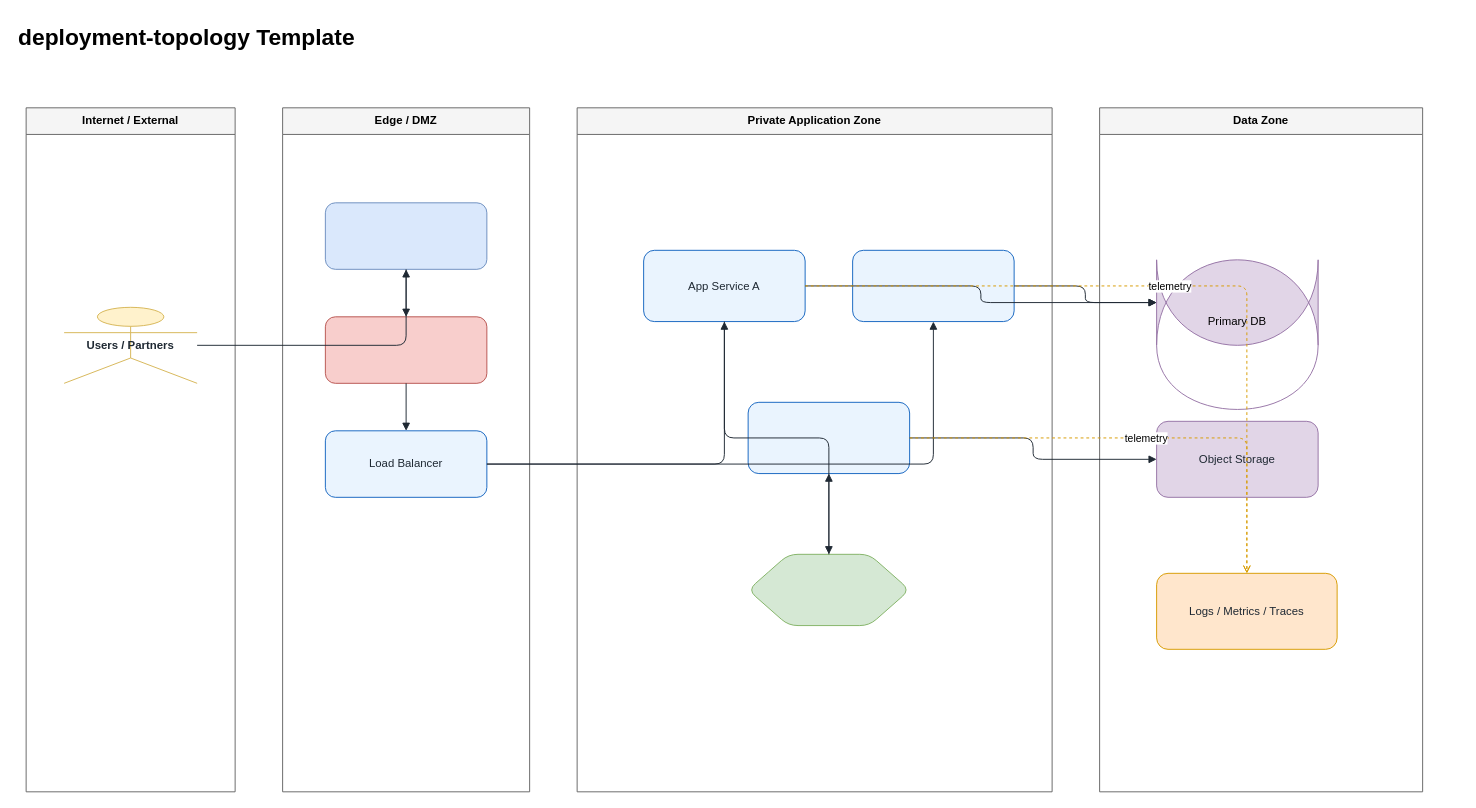
Some shapes in this 1476 by 808 pixel diagram are drawn without their labels. The shapes that lost their labels are listed below. From the top down, each one's centre as x and y in pixels, then its label:
At point 405,235: "DNS / CDN".
At point 933,285: "App Service B".
At point 405,349: "WAF / Firewall".
At point 828,437: "Worker / Job".
At point 828,589: "Queue / Stream".
